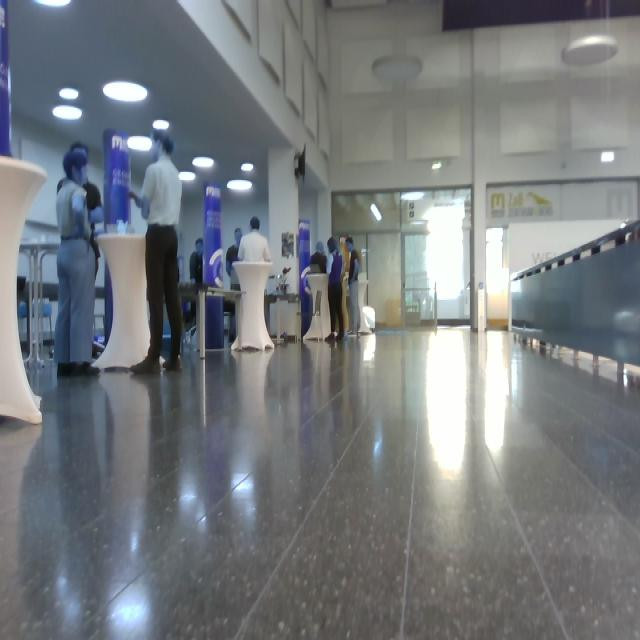light bulb: (562, 35, 618, 67), (372, 54, 423, 85), (103, 81, 148, 102), (52, 105, 83, 121), (127, 136, 153, 152), (227, 180, 253, 192), (192, 156, 214, 169), (59, 88, 79, 101), (34, 1, 71, 8), (370, 204, 382, 221), (153, 119, 170, 131), (600, 151, 615, 163), (178, 172, 196, 181), (241, 162, 254, 172)
person: (128, 129, 184, 374), (55, 146, 102, 377), (237, 217, 273, 336), (326, 237, 346, 340)
staircase: (508, 219, 640, 383)
tiled floor: (2, 325, 639, 638)
